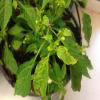Bell_pepper leaf spot: (31, 55, 50, 98), (57, 45, 80, 66), (70, 64, 83, 94), (62, 28, 75, 38), (42, 21, 54, 26)
